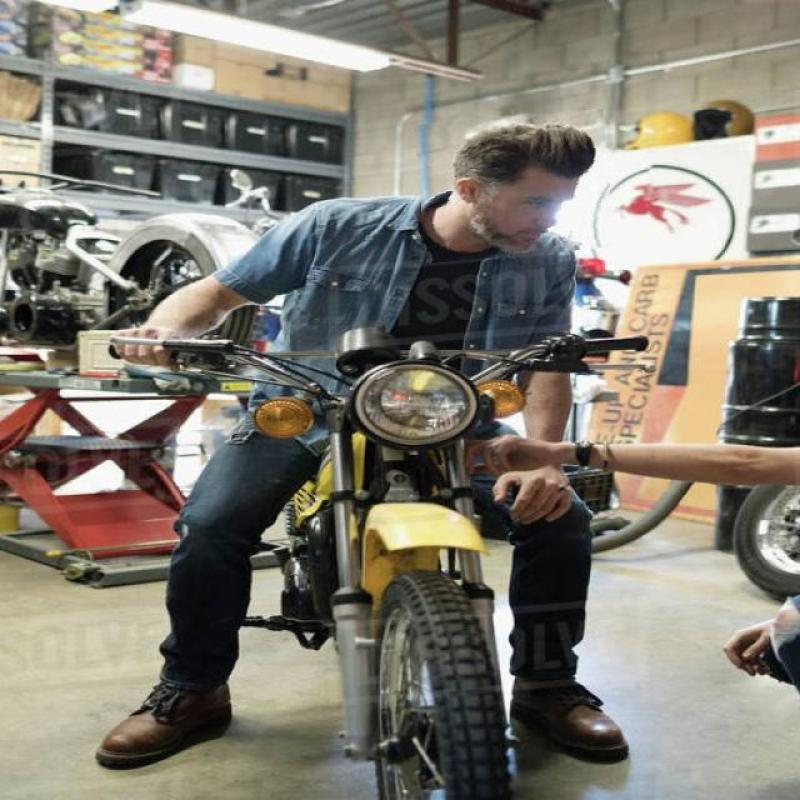nohelmet: (418, 112, 612, 259)
